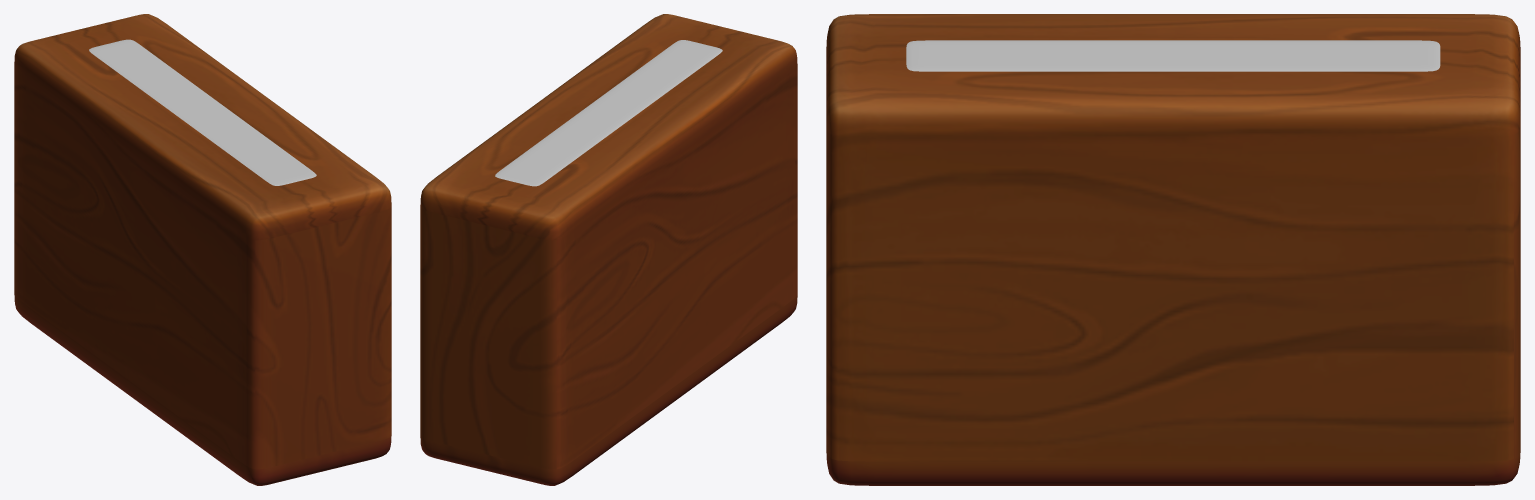
Rendered from wall_3_2.fbx.
3 views of the same model, side by side, from view 1: azimuth 30°, elevation 25°; view 2: azimuth 150°, elevation 25°; view 3: azimuth 270°, elevation 25° (orthographic). The views are drawn at different scales.
Parts seen in each view (by area): view 1: wall_3, lego_point; view 2: wall_3, lego_point; view 3: wall_3, lego_point.
Boxes of the visible parts, <box> form: wall_3: <box>14,14,391,485</box>; lego_point: <box>89,39,316,185</box>; wall_3: <box>420,14,797,485</box>; lego_point: <box>495,40,722,186</box>; wall_3: <box>826,14,1520,485</box>; lego_point: <box>906,40,1440,71</box>.
Bounding box in the file's own units: 1.02 × 1.86 × 3.02.
